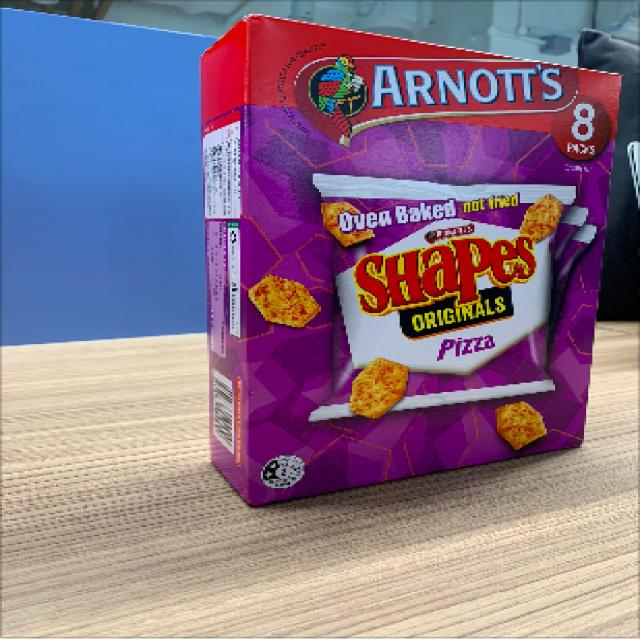object_name: (220, 27, 580, 463)
